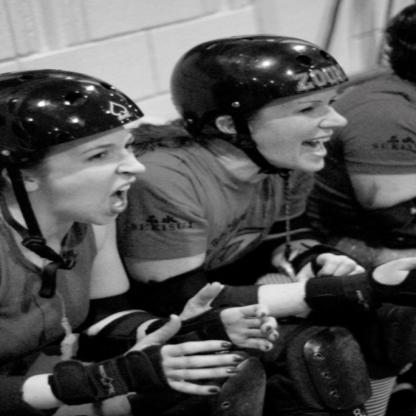Helmet: (0, 70, 146, 297), (172, 33, 352, 178), (382, 4, 416, 94)
